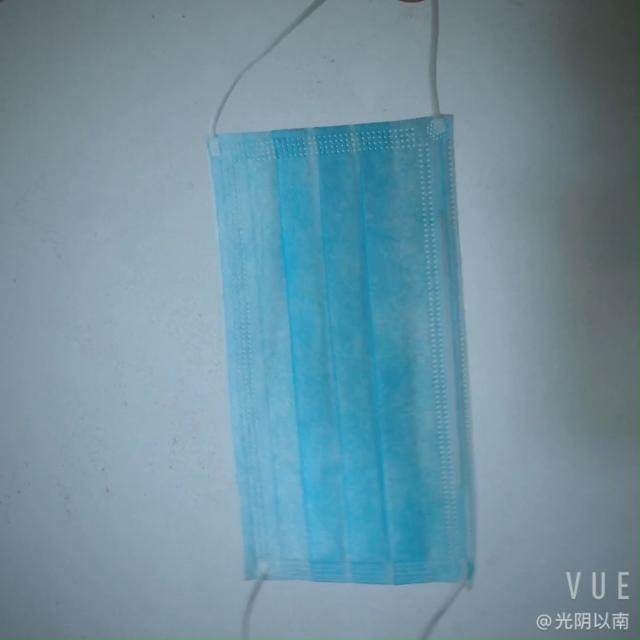non-organic waste: (200, 114, 514, 591)
